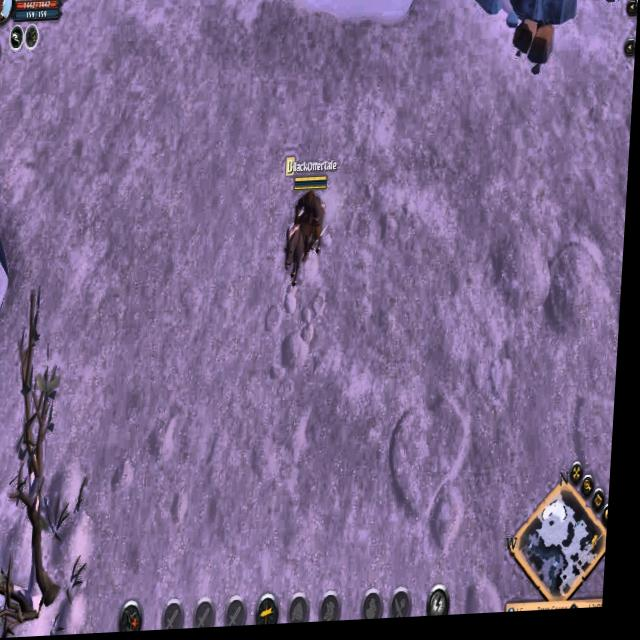limestone: (512, 13, 556, 78)
